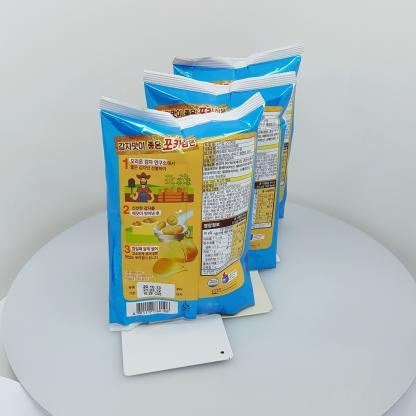Plastic Packaging: (81, 46, 327, 322)
